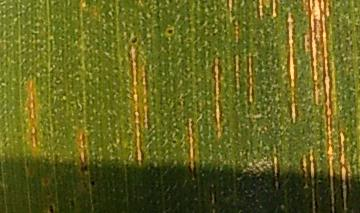tarspot: (128, 33, 141, 46), (78, 162, 90, 175), (164, 27, 176, 37), (88, 177, 97, 189)
